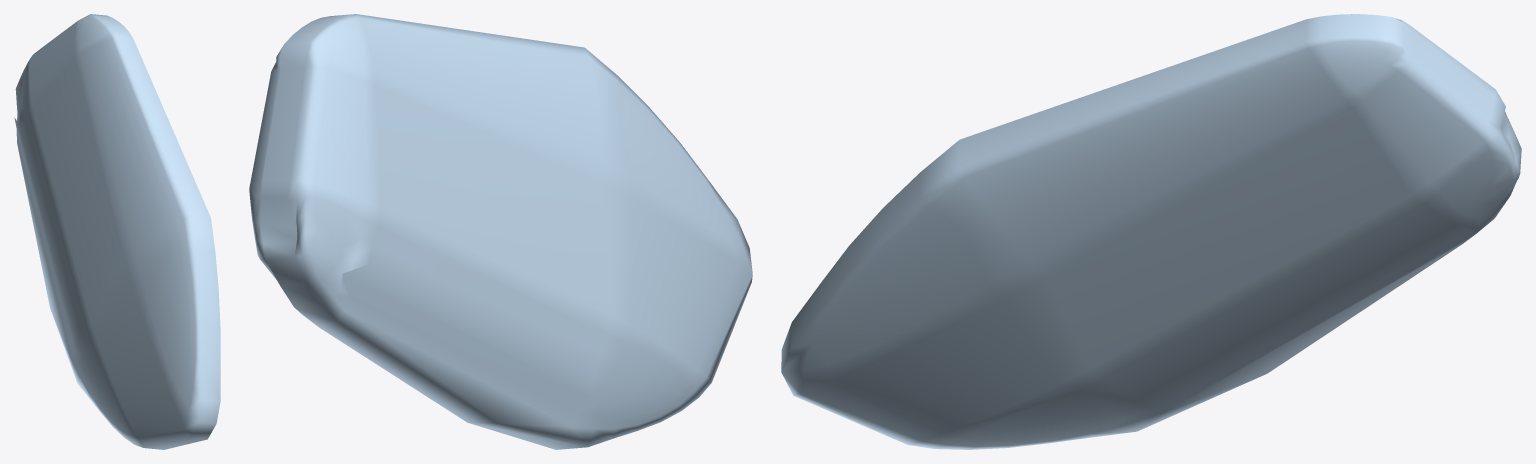
Rendered from ala3.obj.
3 renders of one model, left to right at view 1: azimuth 30°, elevation 25°; view 2: azimuth 150°, elevation 25°; view 3: azimuth 270°, elevation 25°, orthographic. The views are drawn at different scales.
Parts seen in each view (by area): view 1: navyala2:pasted__pasted__pCube1pasted__group1group2; view 2: navyala2:pasted__pasted__pCube1pasted__group1group2; view 3: navyala2:pasted__pasted__pCube1pasted__group1group2.
Part boxes in pixels (x1,y1,x2,y2): navyala2:pasted__pasted__pCube1pasted__group1group2: (14,14,220,449); navyala2:pasted__pasted__pCube1pasted__group1group2: (249,14,752,449); navyala2:pasted__pasted__pCube1pasted__group1group2: (781,14,1521,449).
Size of the model in its own units: 0.3806 by 0.913 by 1.23.
Materials: 1 (1 with a texture image).
